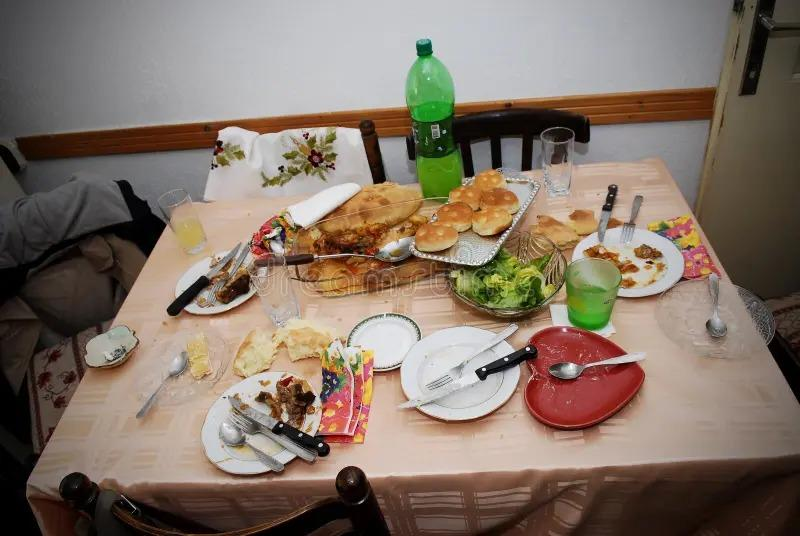Messy Table: (50, 130, 800, 532)
